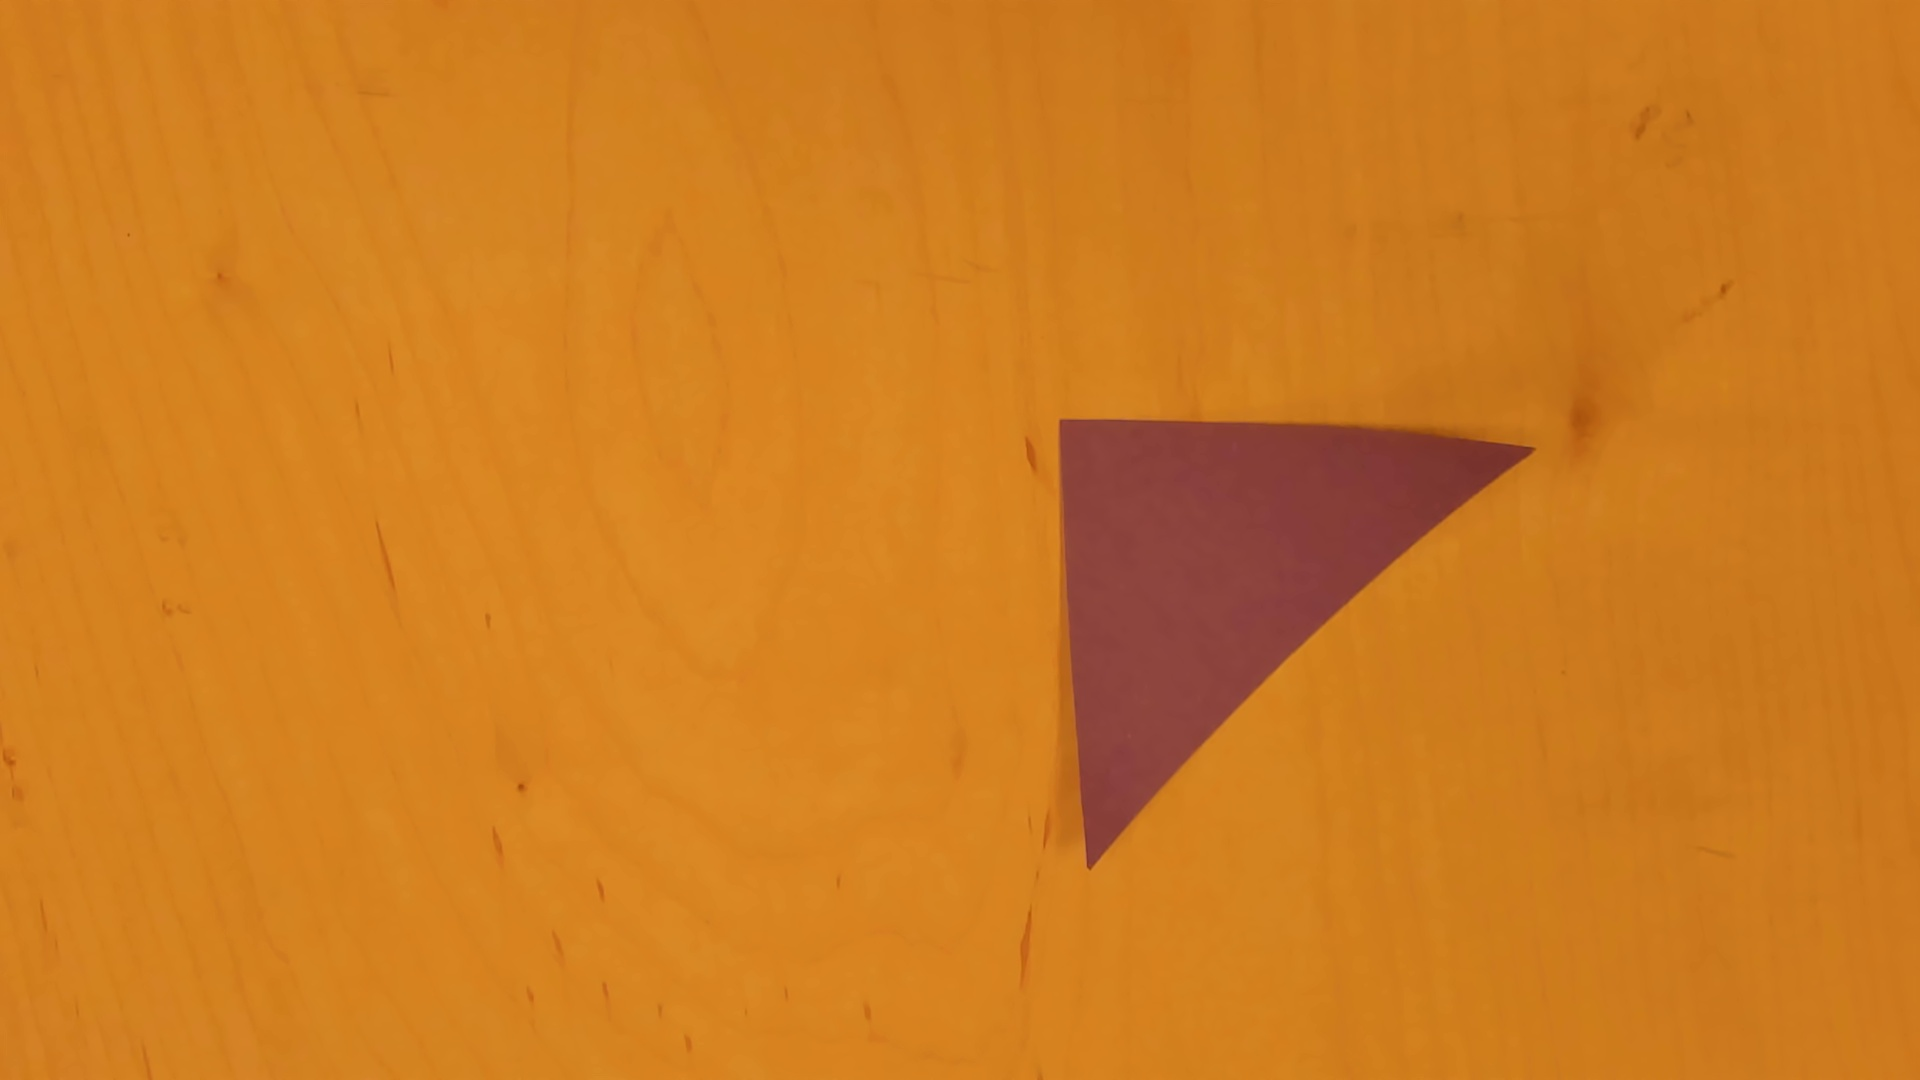PT: (1054, 415, 1544, 880)
